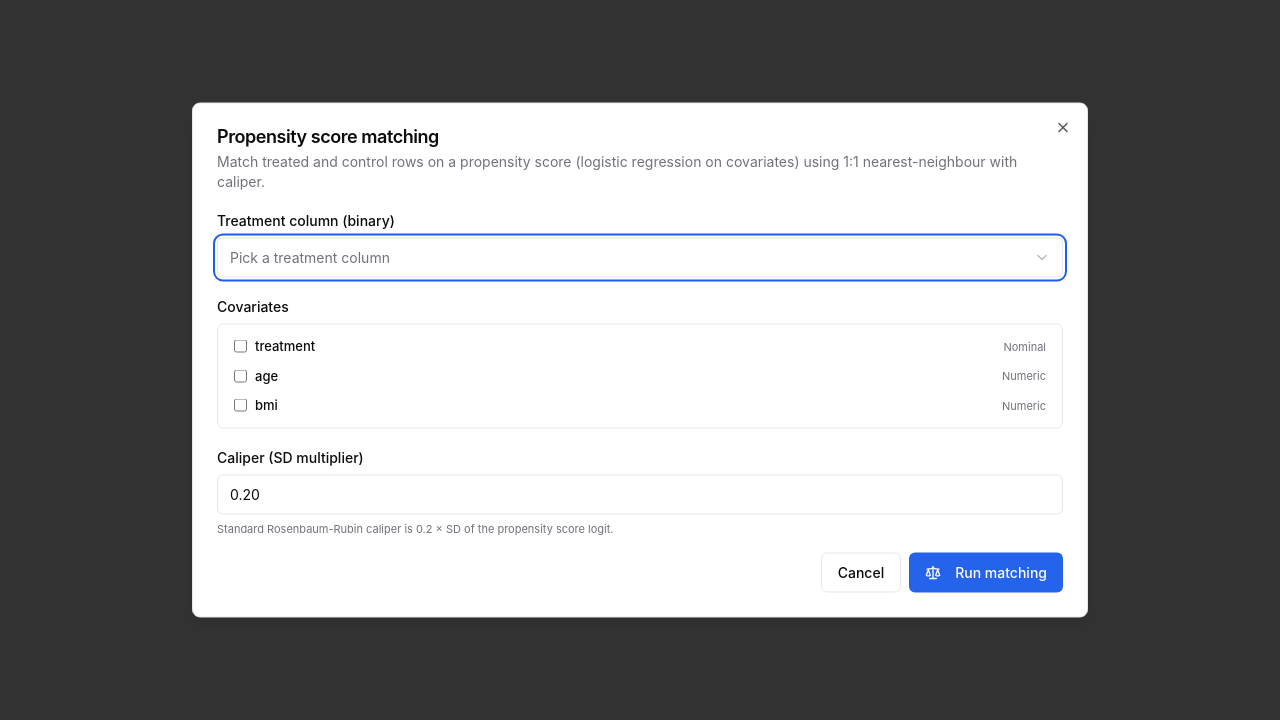
Test: PSMWizard — happy path › renders the balance table after a successful run
Pick the only binary nominal column.
Click the dropdown with test id "psm-treatment": (310, 257) [217,238,1063,278]
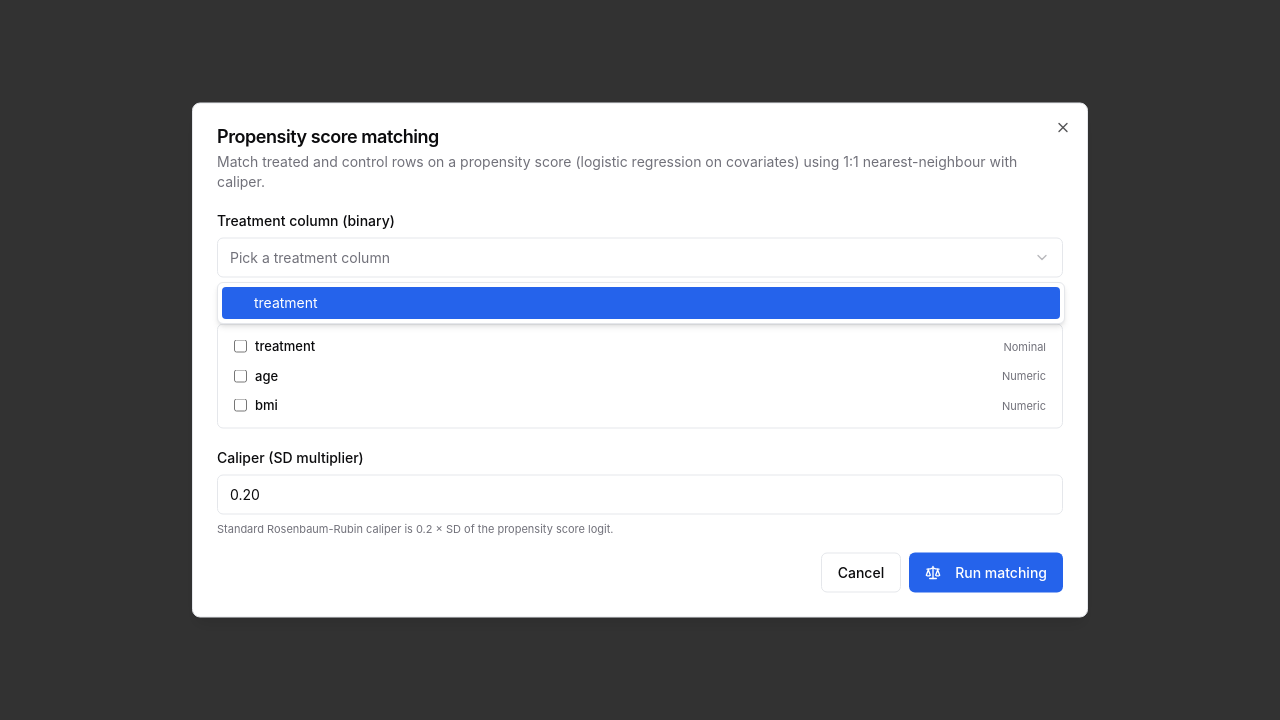
Click the option "treatment": (286, 302) [222,287,1060,319]
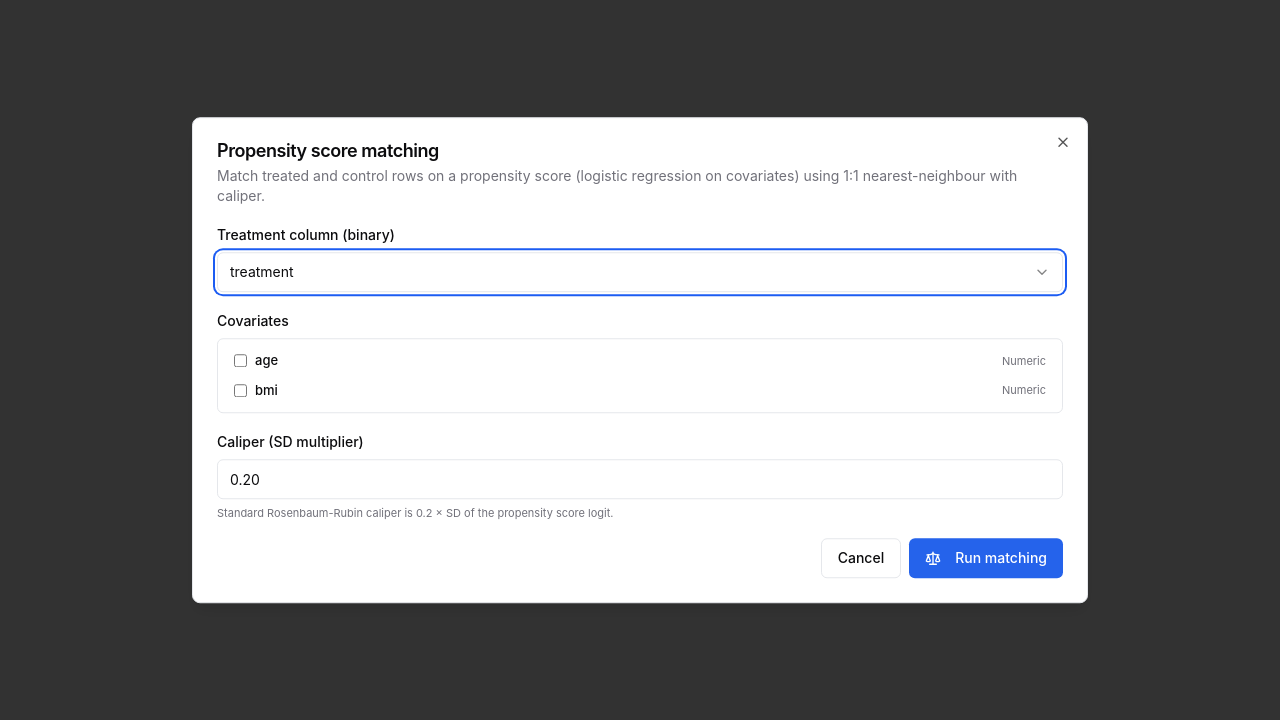
Tick at least one covariate.
Click the checkbox with test id "psm-cov-age": (240, 361) [234,354,247,368]
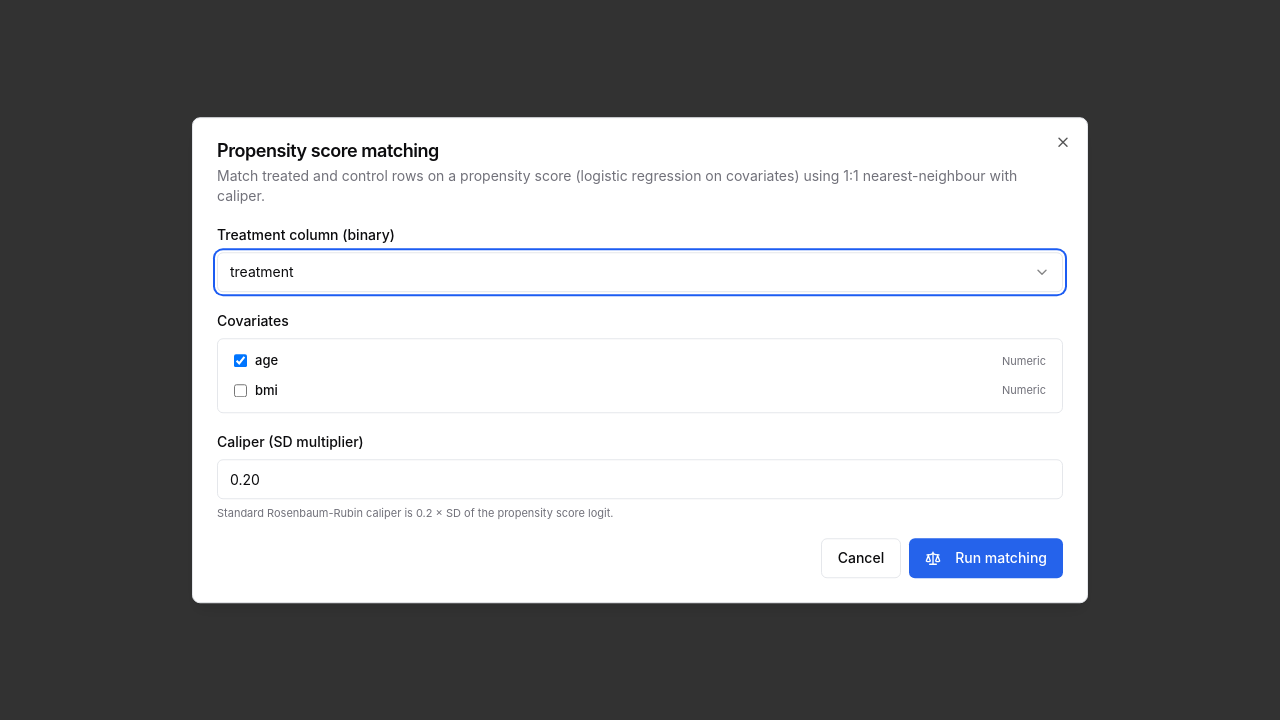
Click the button "Run matching": (986, 558) [909,538,1063,578]
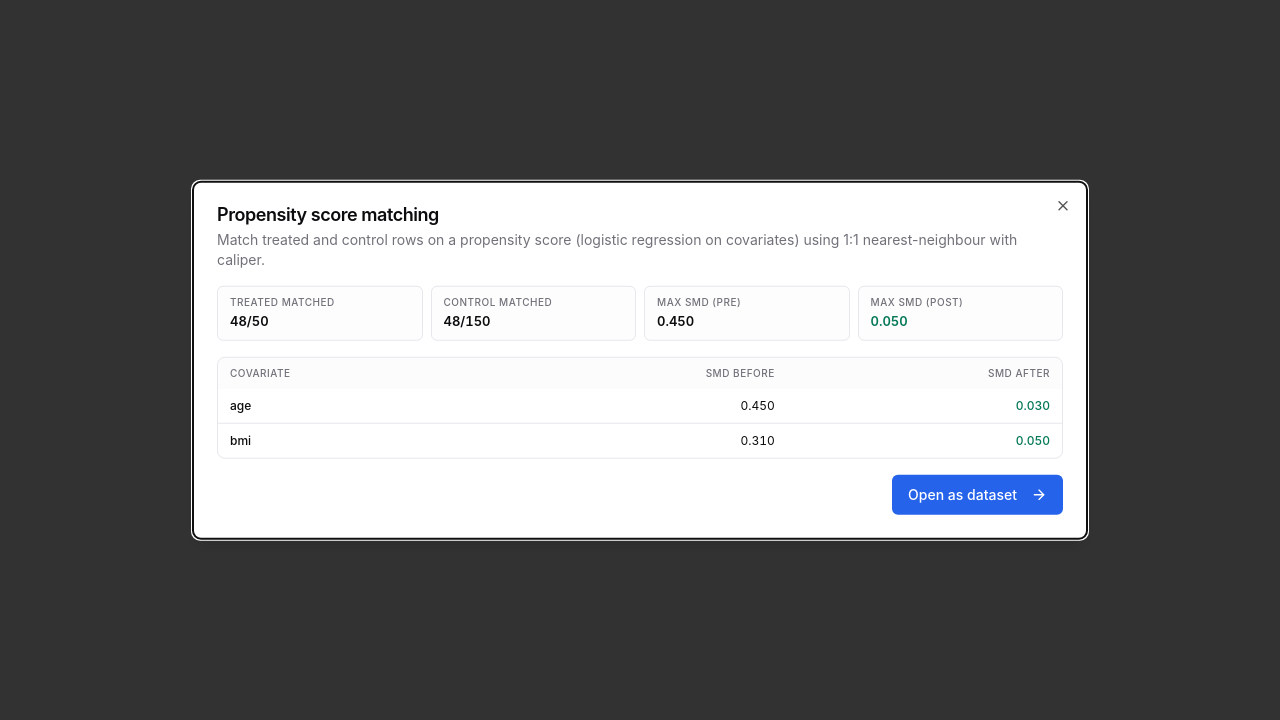
Expected: the table with test id "psm-balance-table" is shown, [218,388,1062,457]
Expected: the table with test id "psm-balance-table" shows "age", [230,397,251,412]
Expected: the table with test id "psm-balance-table" shows "bmi", [230,432,251,447]
